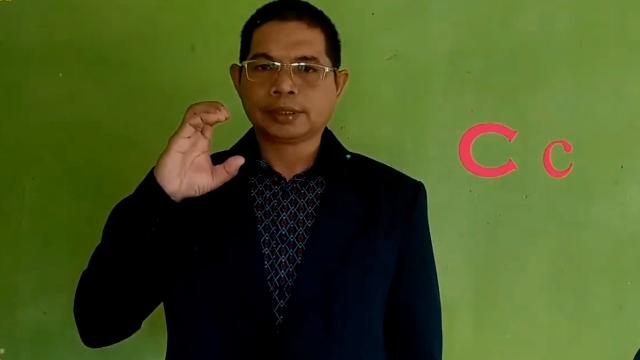C: (158, 100, 245, 200)
